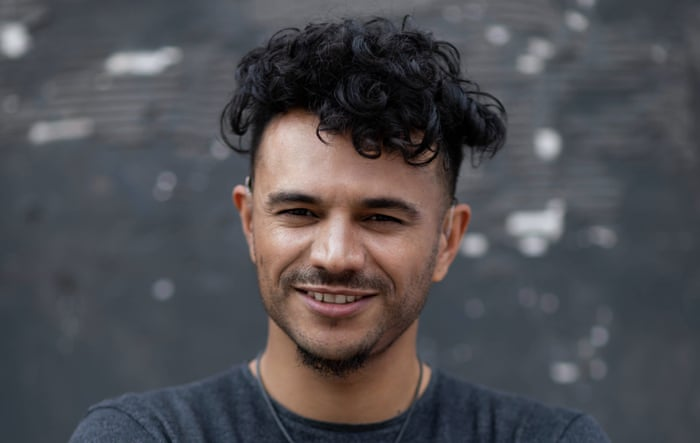bare: (247, 231, 434, 366)
